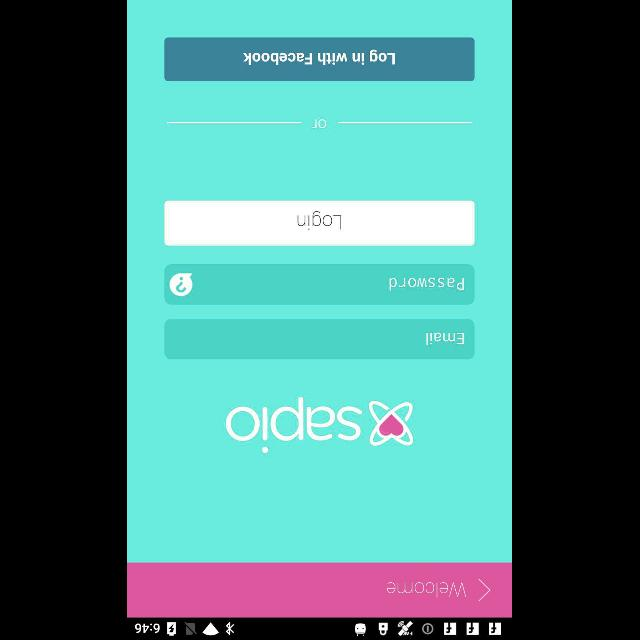icon: (170, 273, 194, 297), (478, 578, 492, 602)
image: (369, 400, 415, 446)
input: (165, 264, 475, 306), (165, 318, 475, 359)
text: (226, 396, 364, 452), (387, 581, 467, 597), (390, 278, 466, 290), (427, 332, 465, 346), (312, 119, 328, 129)
textbutton: (164, 200, 476, 246), (165, 37, 475, 81)
toolbar: (128, 563, 512, 617)
uppertaskbar: (128, 617, 512, 639)
